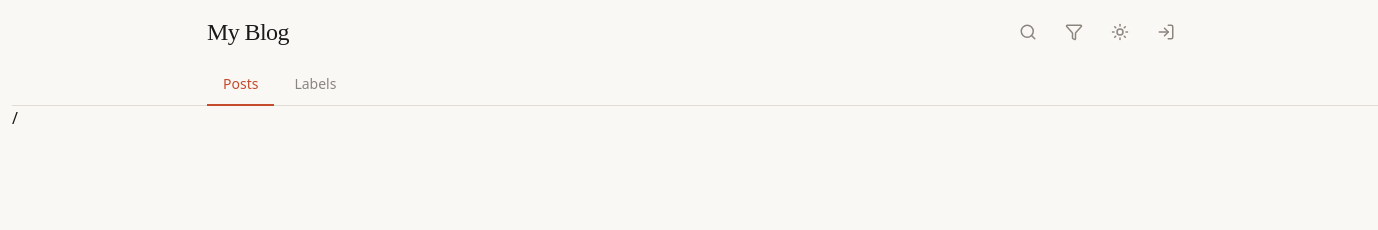
Test: Header › live search dropdown › ESC closes dropdown
This screenshot has width=1378, height=230.
Click the button named "Search" at (1028, 32), box [1011, 15, 1045, 49]
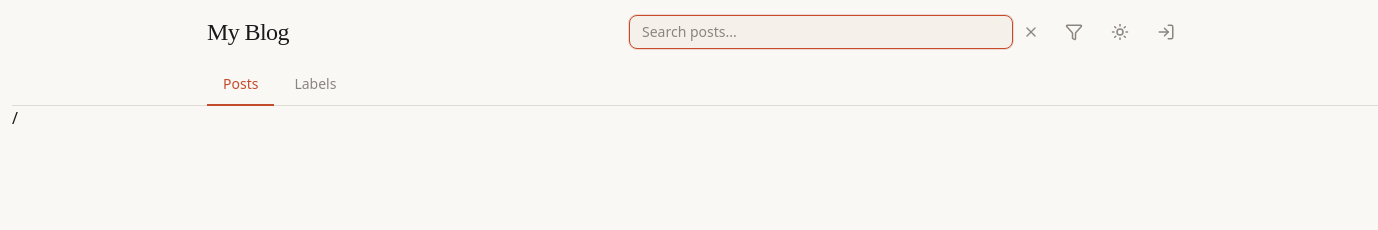
Type "hello" into the dropdown with placeholder "Search posts..." at (821, 32), box [629, 15, 1013, 49]
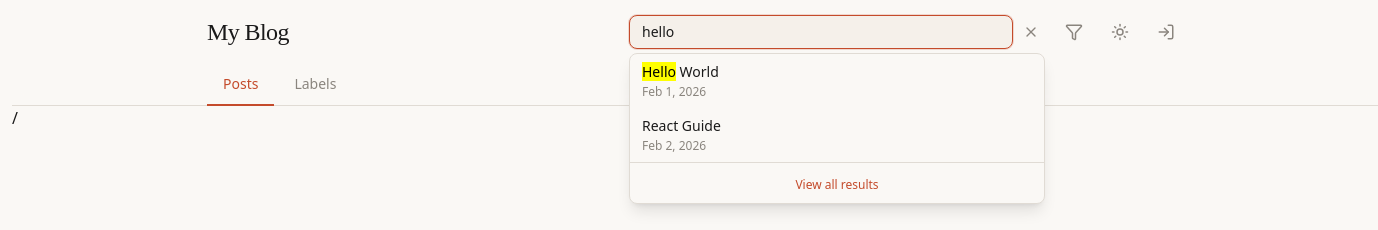
Expected: the list is shown, [642, 62, 721, 154]
Press Escape
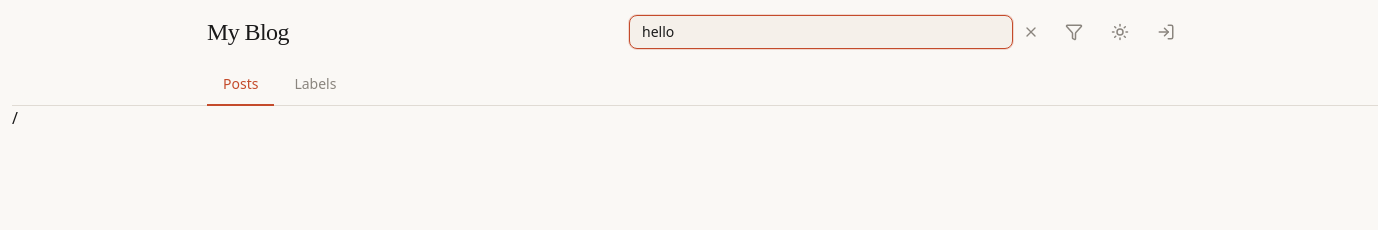
Expected: the list is gone
